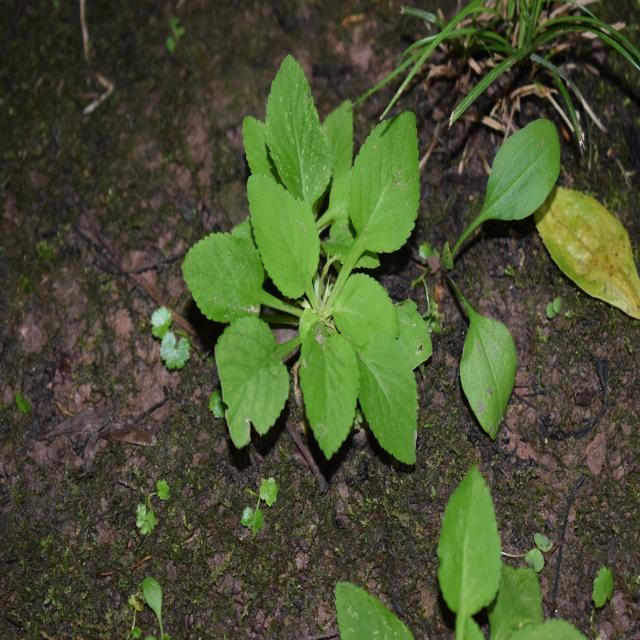Viola: (192, 86, 433, 458)
